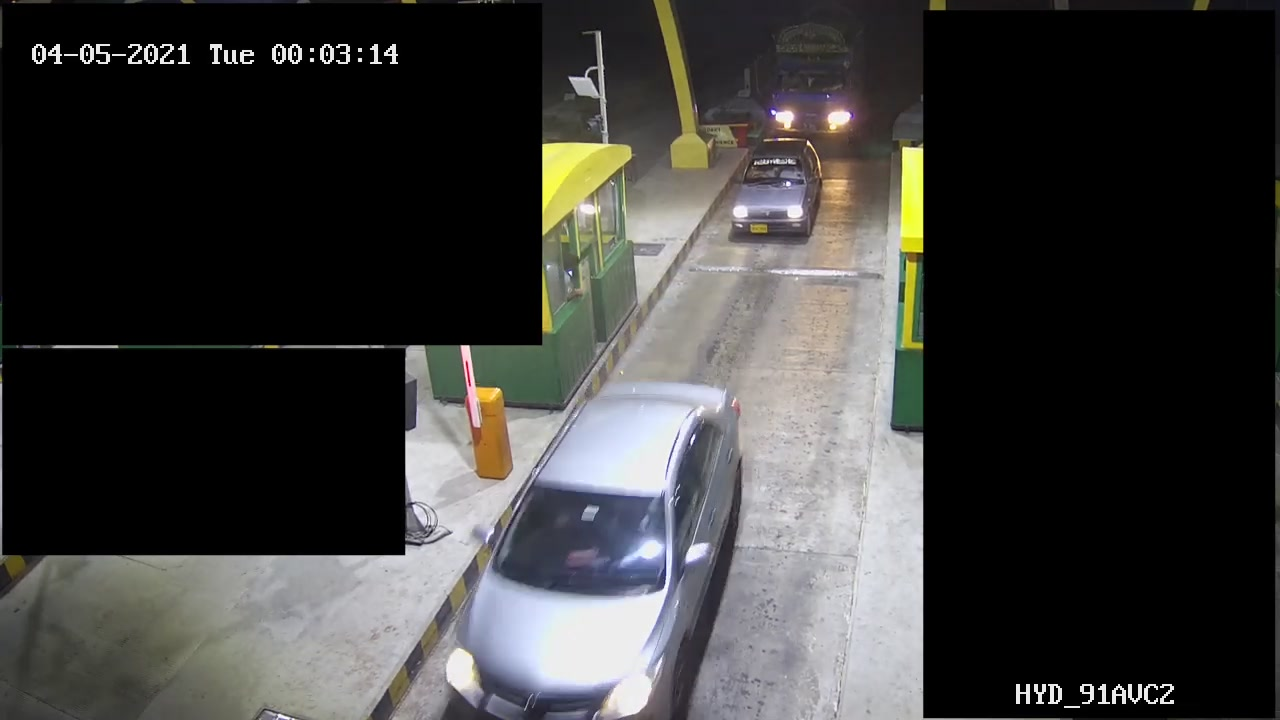F1: (729, 134, 831, 240)
